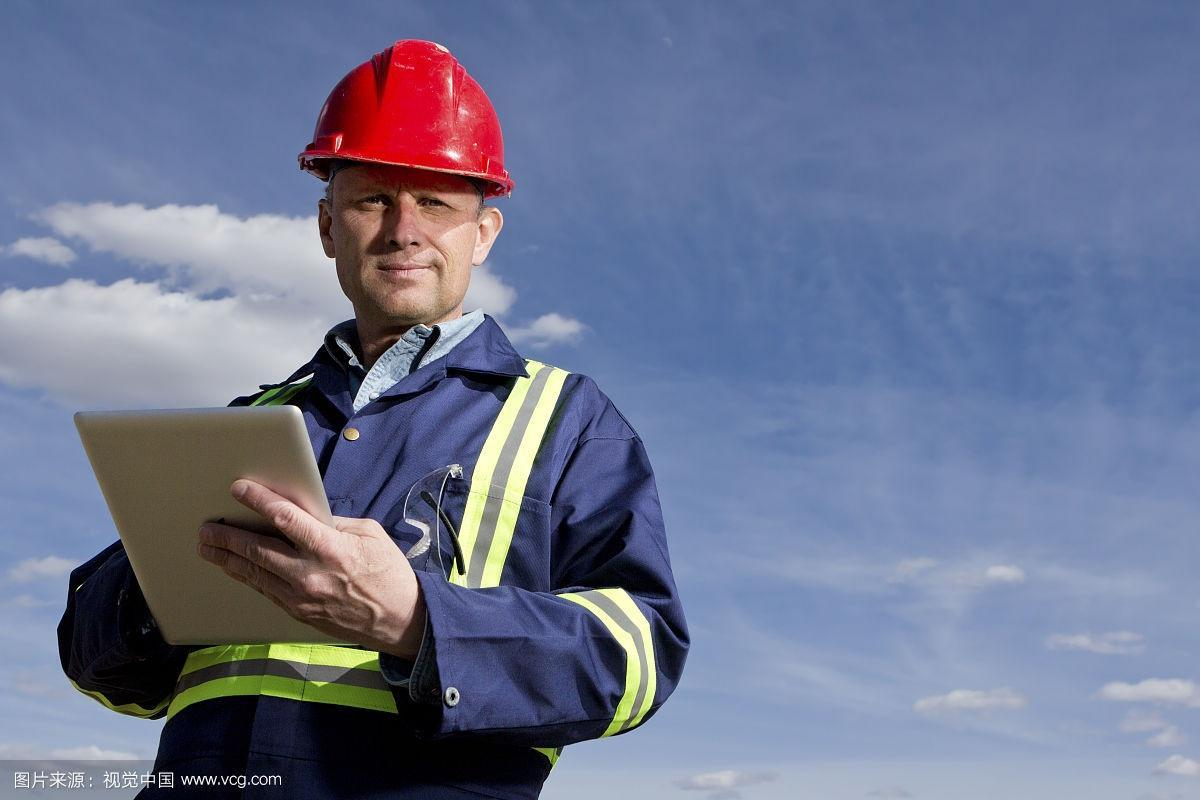helmet: (291, 32, 528, 197)
no-vest: (151, 344, 629, 741)
person: (117, 35, 634, 780)
